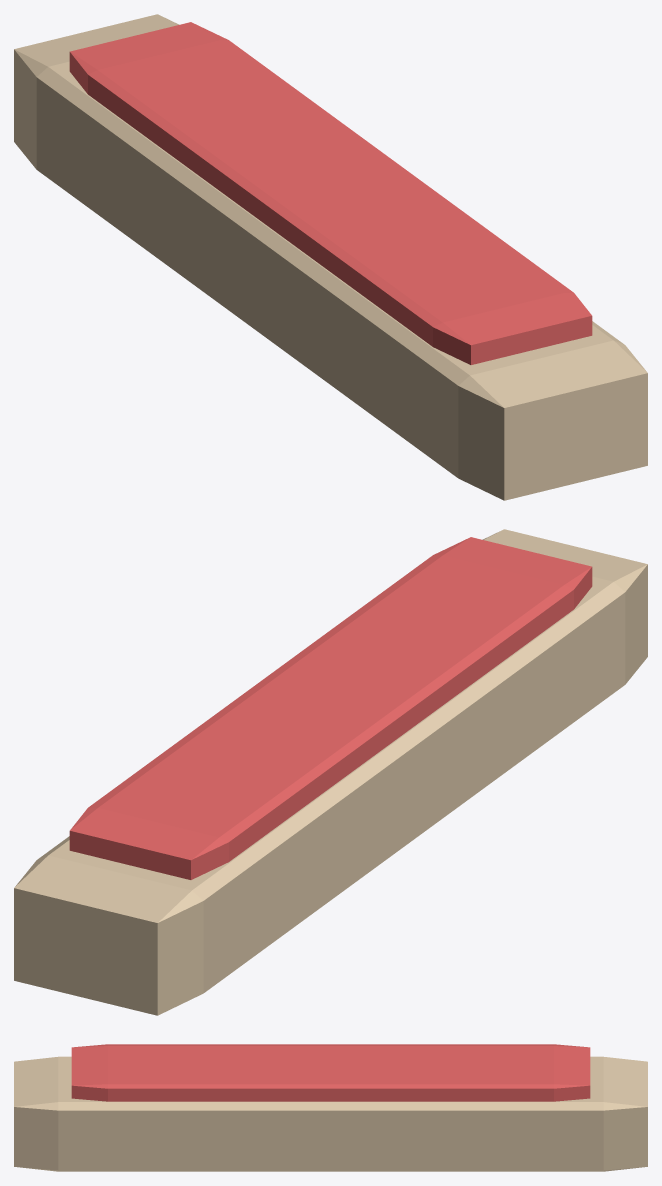
Rendered from b16_baguette_in_paper_sleeve.glb.
3 renders of one model, top to bottom at view 1: azimuth 30°, elevation 25°; view 2: azimuth 150°, elevation 25°; view 3: azimuth 270°, elevation 25°, orthographic. The views are drawn at different scales.
Visible parts, largest first — view 1: b16_baguette_in_paper_sleeve; view 2: b16_baguette_in_paper_sleeve; view 3: b16_baguette_in_paper_sleeve.
Boxes of the visible parts, x1,y1,x2,y2 form: b16_baguette_in_paper_sleeve: [14, 14, 647, 500]; b16_baguette_in_paper_sleeve: [14, 529, 647, 1015]; b16_baguette_in_paper_sleeve: [14, 1044, 647, 1171].
Bounding box in the file's own units: 0.07 × 0.052 × 0.356.
